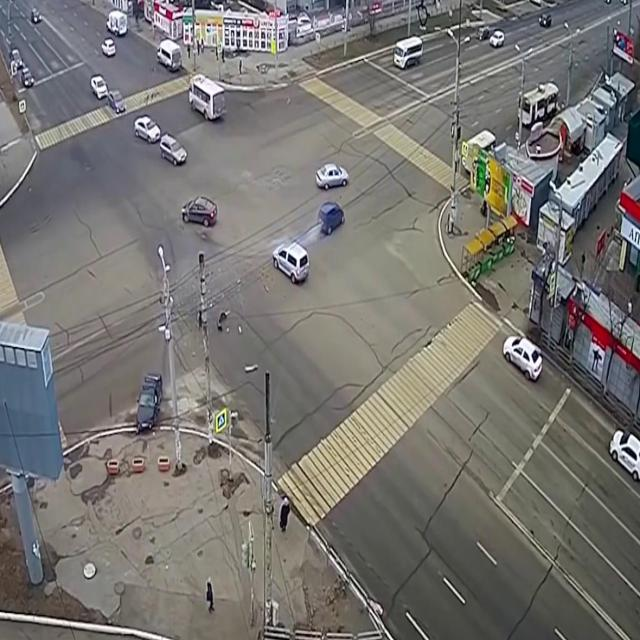accident: (270, 196, 350, 292), (127, 352, 169, 448)
